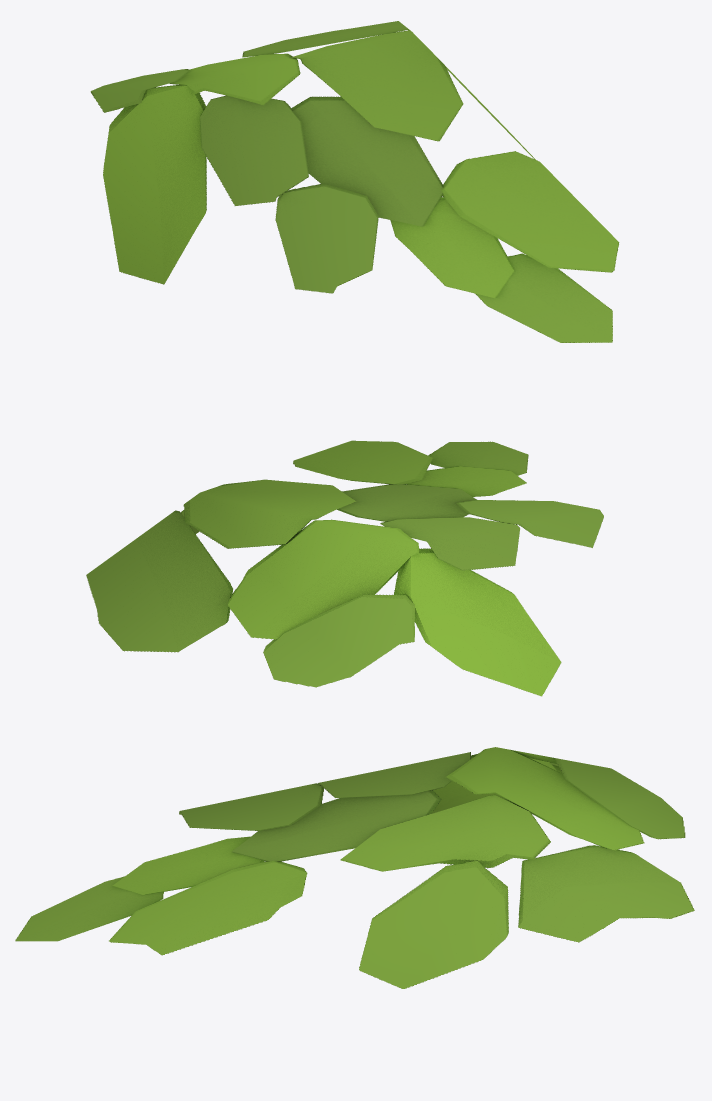
The model's file is Foliage.glb.
The picture shows the model from 3 angles, top to bottom: view 1: azimuth 30°, elevation 25°; view 2: azimuth 150°, elevation 25°; view 3: azimuth 270°, elevation 25°; orthographic projection. The views are drawn at different scales.
Visible parts, largest first — view 1: Plane; view 2: Plane; view 3: Plane.
Part boxes in pixels (x1,y1,x2,y2): Plane: (90,21,619,342); Plane: (86,440,603,696); Plane: (15,747,694,988).
Size of the model in its own units: 0.6364 by 0.2424 by 0.8366.
Materials: 1 (1 with a texture image).
